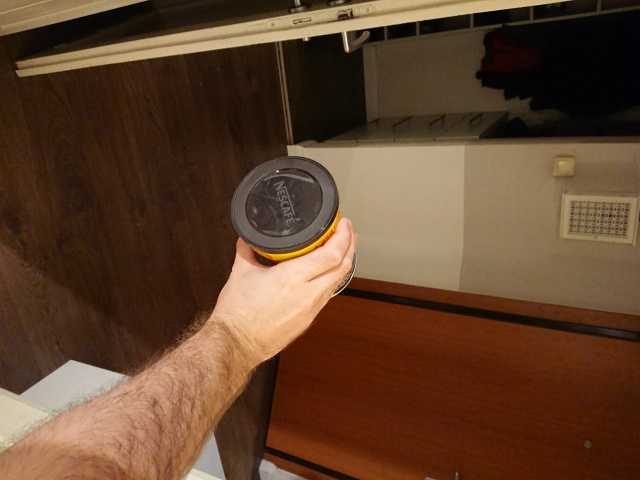Nescafe Classic 225g: (228, 154, 360, 302)
